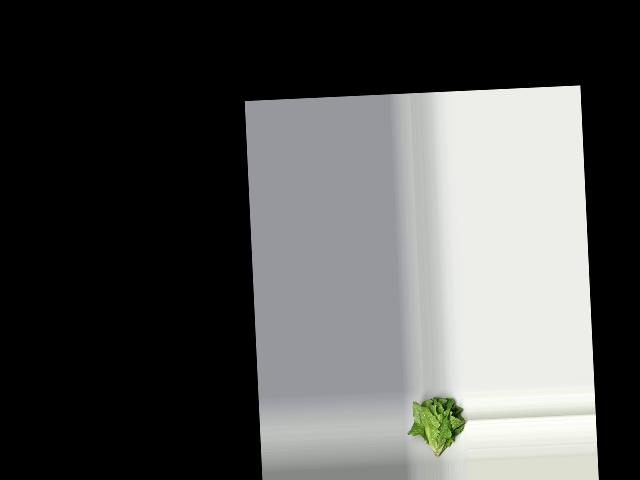lettuce: (411, 392, 466, 460)
